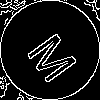M: (25, 25, 87, 86)
